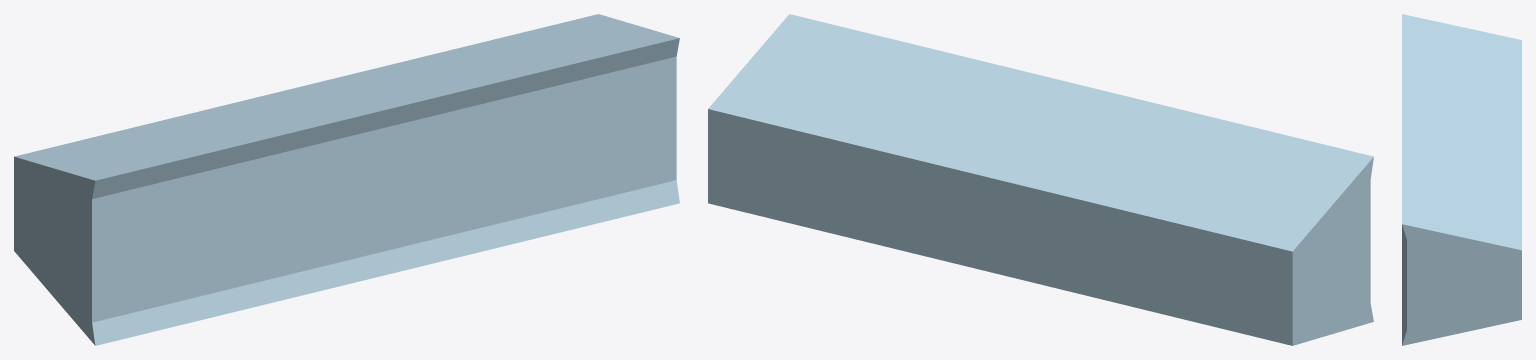
Rendered from Lifter Parts - Fork Collision 2.dae.
The picture shows the model from 3 angles, left to right: view 1: azimuth 30°, elevation 25°; view 2: azimuth 150°, elevation 25°; view 3: azimuth 270°, elevation 25°; orthographic projection. The views are drawn at different scales.
Visible parts, largest first — view 1: ID2; view 2: ID2; view 3: ID2.
Boxes of the visible parts, x1,y1,x2,y2 form: ID2: [14, 14, 679, 345]; ID2: [708, 14, 1373, 345]; ID2: [1402, 14, 1521, 345].
Bounding box in the file's own units: 0.0648 × 0.0156 × 0.0175.
